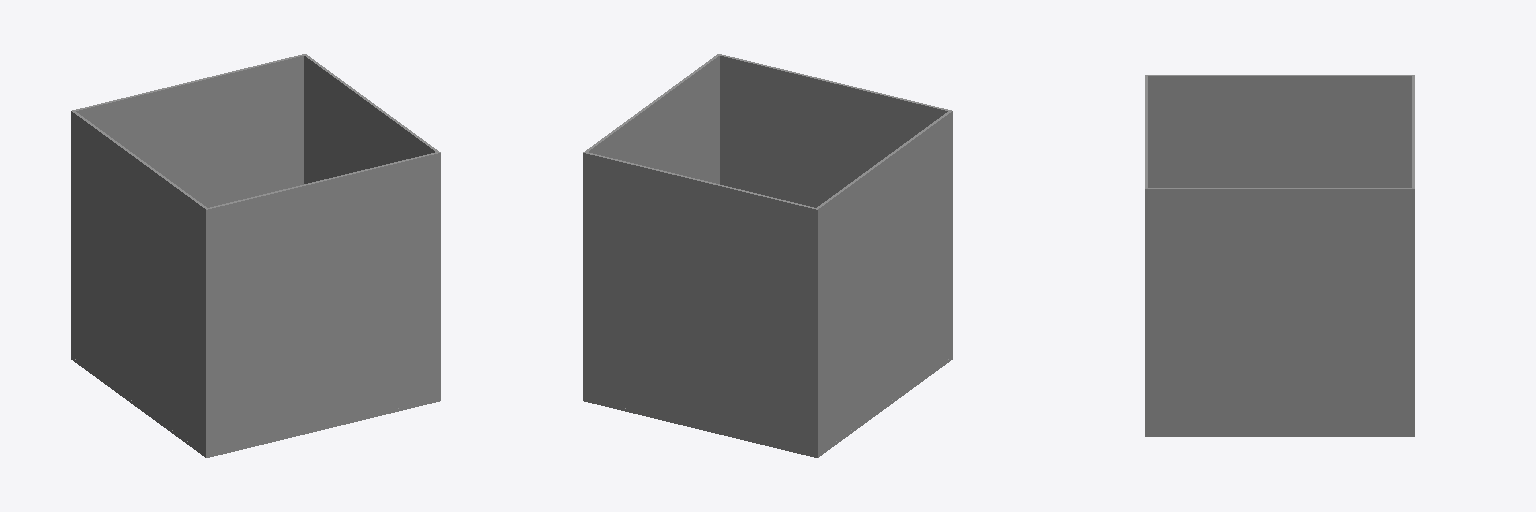
The model's file is Tank_clear.obj.
3 renders of one model, left to right at view 1: azimuth 30°, elevation 25°; view 2: azimuth 150°, elevation 25°; view 3: azimuth 270°, elevation 25°, orthographic.
Parts seen in each view (by area): view 1: Glass3_Cube.003, Glass2_Cube.002, Glass4_Cube.004, Glass1_Cube.001, Tank_Cube; view 2: Glass4_Cube.004, Glass2_Cube.002, Glass3_Cube.003, Glass1_Cube.001, Tank_Cube; view 3: Glass1_Cube.001, Glass2_Cube.002, Glass4_Cube.004, Glass3_Cube.003, Tank_Cube.
Boxes of the visible parts, x1,y1,x2,y2 form: Glass3_Cube.003: [205, 152, 440, 454]; Glass2_Cube.002: [73, 111, 206, 453]; Glass4_Cube.004: [71, 54, 306, 356]; Glass1_Cube.001: [304, 55, 438, 183]; Tank_Cube: [71, 357, 440, 457]; Glass4_Cube.004: [583, 152, 818, 454]; Glass2_Cube.002: [817, 111, 950, 453]; Glass3_Cube.003: [717, 54, 952, 356]; Glass1_Cube.001: [585, 55, 719, 183]; Tank_Cube: [583, 357, 952, 457]; Glass1_Cube.001: [1148, 188, 1411, 433]; Glass2_Cube.002: [1148, 75, 1411, 187]; Glass4_Cube.004: [1412, 75, 1414, 433]; Glass3_Cube.003: [1145, 75, 1147, 433]; Tank_Cube: [1145, 434, 1414, 436].
Bounding box in the file's own units: 1 × 1.01 × 1.